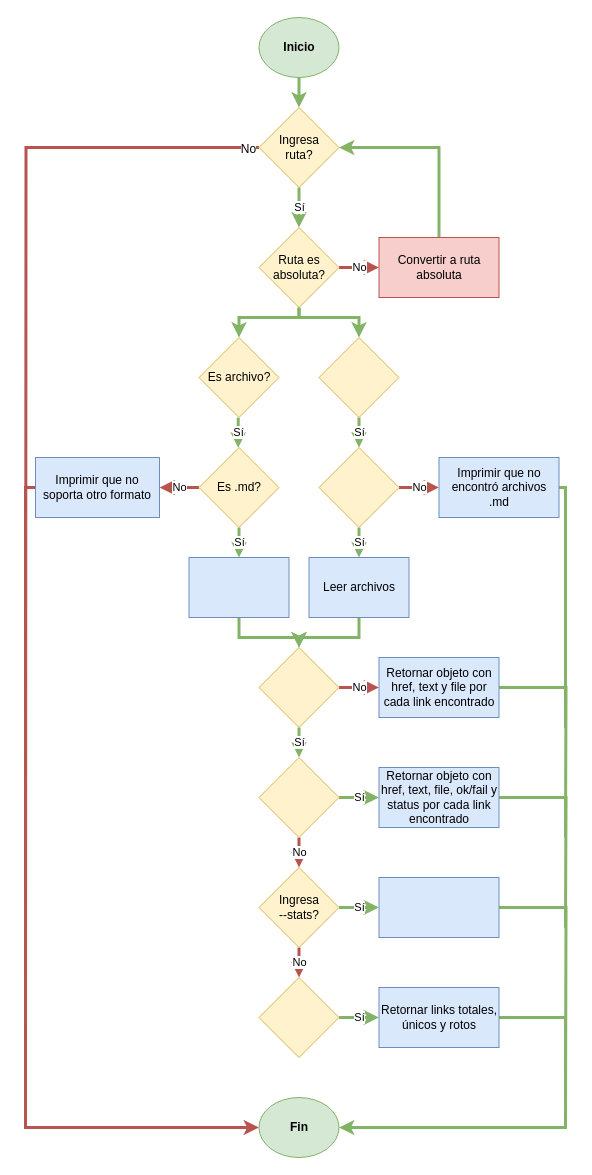
Image size: 592x1175. Some labels were removed from this diagram. The centre of each missing label's shape, as x and y in pixels:
Contiene .md?: [358,487]
Es directorio?: [358,377]
Ingresa --validate --stats: [298,1017]
Ingresa --validate?: [298,797]
Ingresa opciones?: [298,687]
Leer archivo: [238,587]
Retornar links totales y únicos: [438,907]
